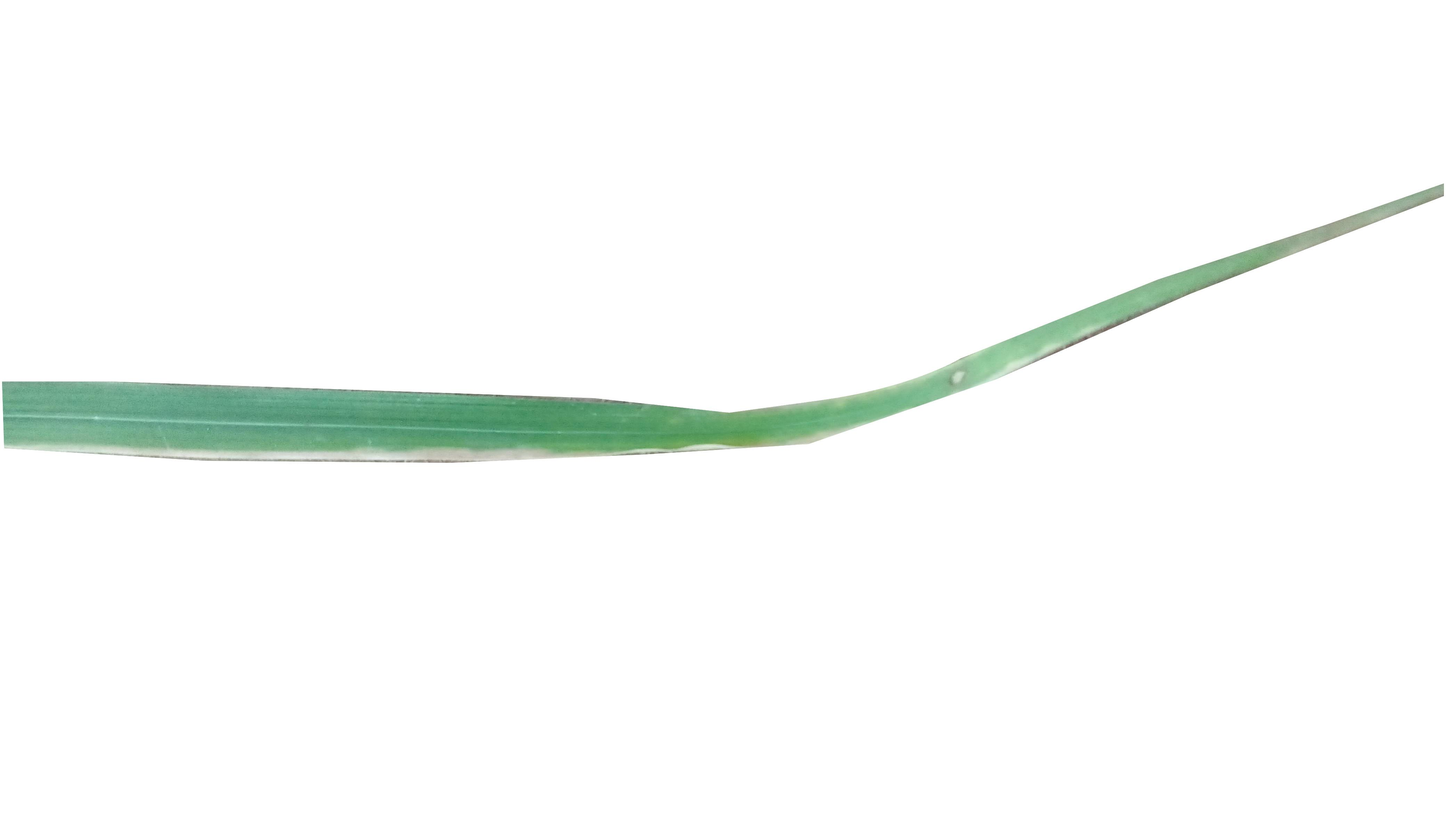Blight: (212, 436, 558, 466)
